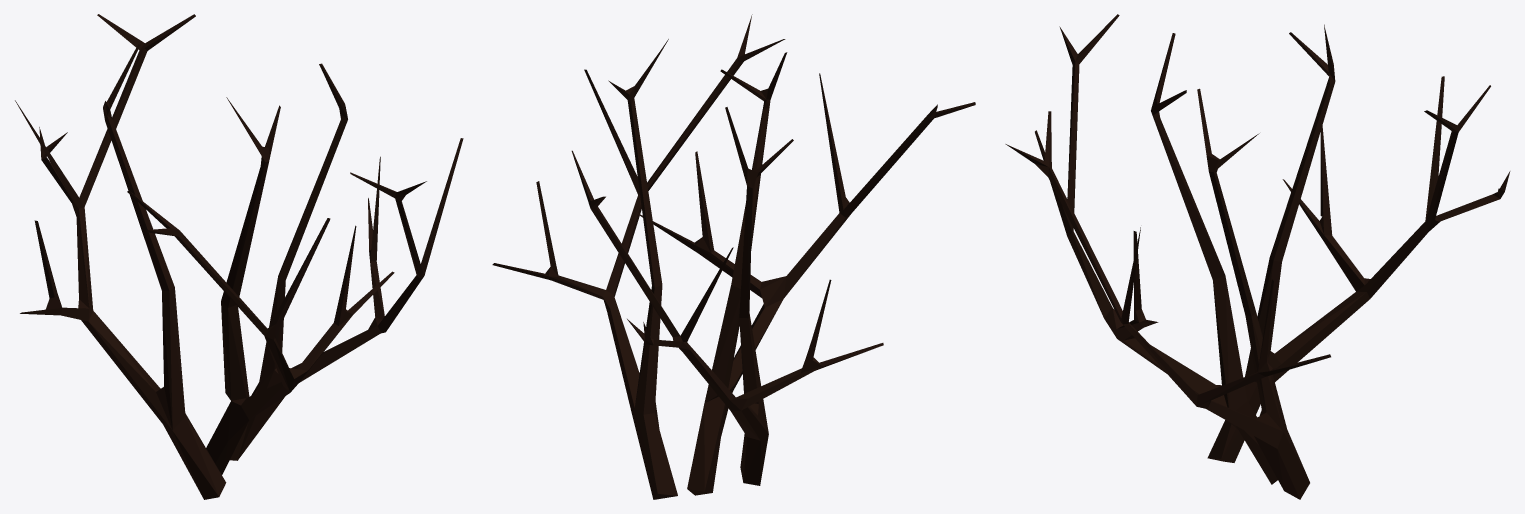
The model's file is DeadBush.obj.
The picture shows the model from 3 angles, left to right: view 1: azimuth 30°, elevation 25°; view 2: azimuth 150°, elevation 25°; view 3: azimuth 270°, elevation 25°; orthographic projection. The views are drawn at different scales.
Parts seen in each view (by area): view 1: Plane.003_Plane.004; view 2: Plane.003_Plane.004; view 3: Plane.003_Plane.004.
Boxes of the visible parts, box(x1,y1,x2,y2) form: Plane.003_Plane.004: box(15, 14, 463, 499); Plane.003_Plane.004: box(492, 14, 975, 499); Plane.003_Plane.004: box(1005, 14, 1510, 499).
Bounding box in the file's own units: 1.25 × 1.37 × 1.45.
